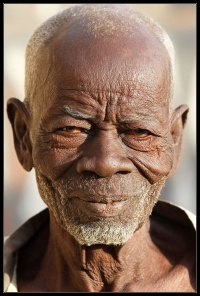Forehead: (38, 37, 165, 127)
